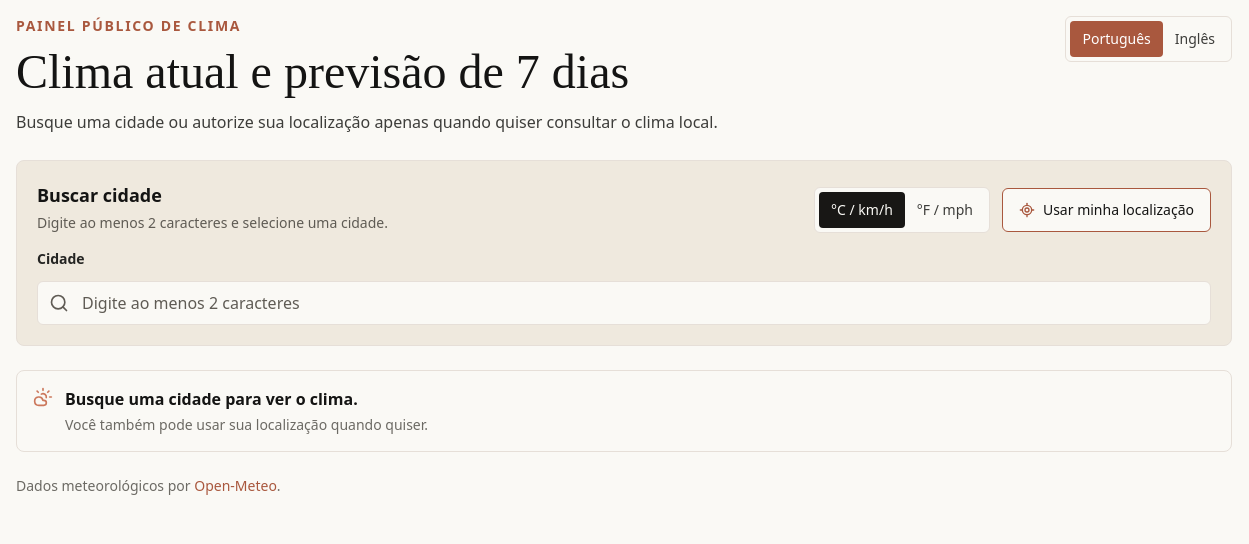
Test: WeatherPage › should render no city results clearly
Type "Cidade inexistente" into the dropdown named "Buscar cidade" at coordinates (624, 303), box [37,281,1211,325]
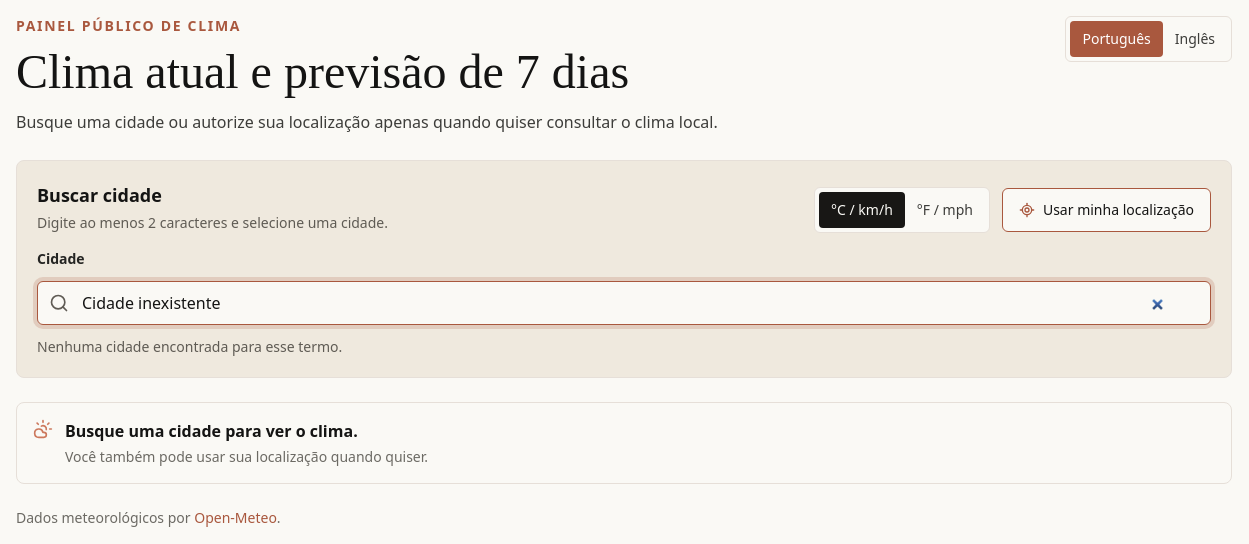
Now the text "Nenhuma cidade encontrada para esse termo." is shown, box [37,337,342,356]
